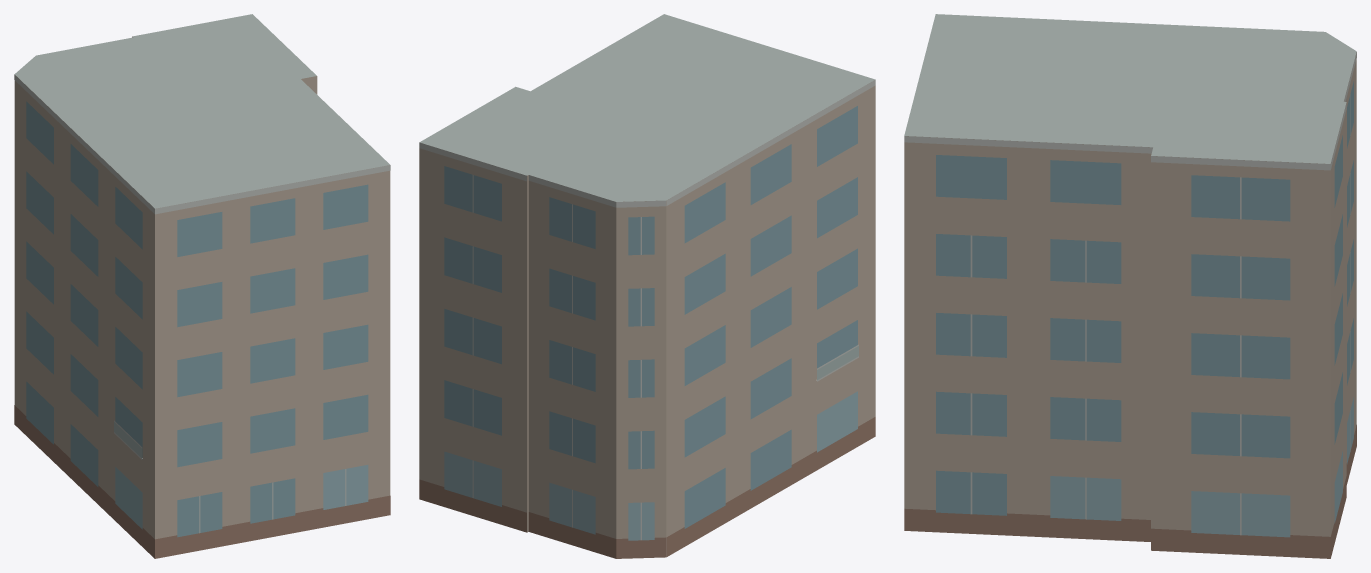
File: survey-upis-32608193.glb
3 views of the same model, side by side, from view 1: azimuth 30°, elevation 25°; view 2: azimuth 150°, elevation 25°; view 3: azimuth 270°, elevation 25° (orthographic). The views are drawn at different scales.
Visible parts, largest first — view 1: survey-upis-32608193.tmp; view 2: survey-upis-32608193.tmp; view 3: survey-upis-32608193.tmp.
Part boxes in pixels (x1=…): survey-upis-32608193.tmp: x1=14, y1=14, x2=390, y2=558; survey-upis-32608193.tmp: x1=419, y1=14, x2=875, y2=558; survey-upis-32608193.tmp: x1=904, y1=14, x2=1356, y2=558.
Size of the model in its own units: 12.23 by 15 by 15.59.
